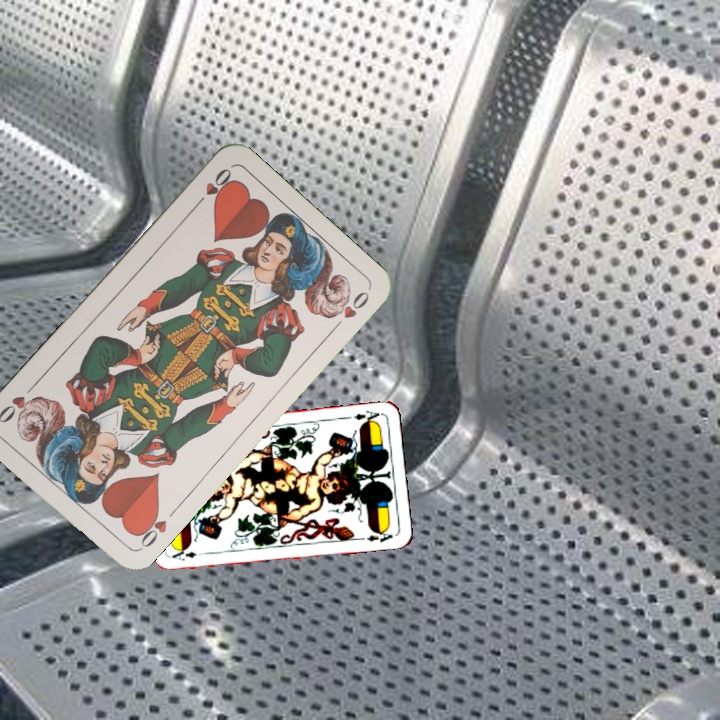EA: (350, 406, 384, 426), (168, 547, 209, 563)
HO: (189, 163, 236, 211), (130, 505, 170, 553)
